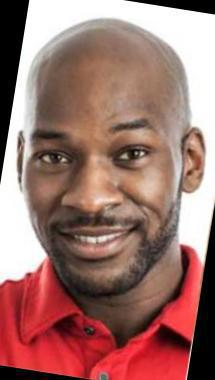Sober: (31, 72, 175, 268)
